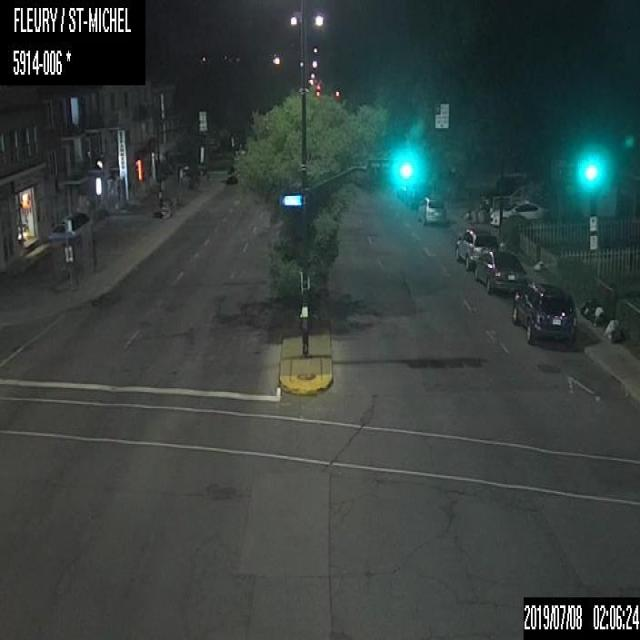vehicle: (511, 280, 576, 342), (473, 250, 527, 297), (454, 227, 498, 270), (489, 202, 544, 226), (417, 194, 443, 224), (182, 160, 205, 175), (226, 165, 238, 183)
